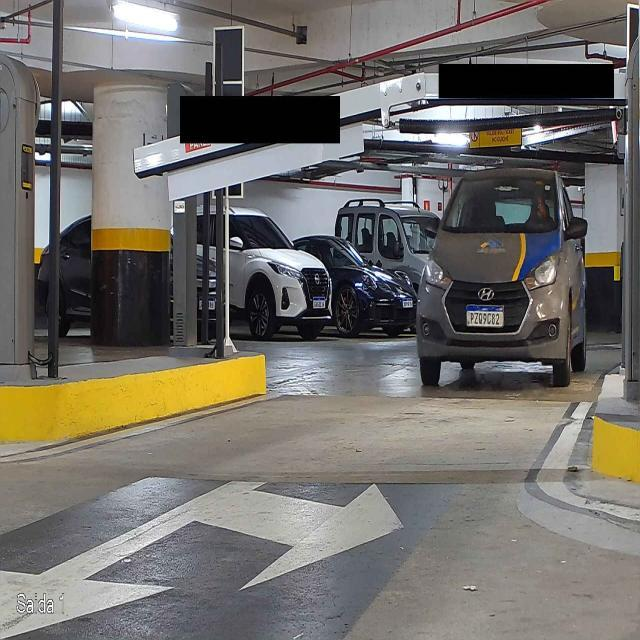mercosul_plate: (464, 304, 506, 329)
